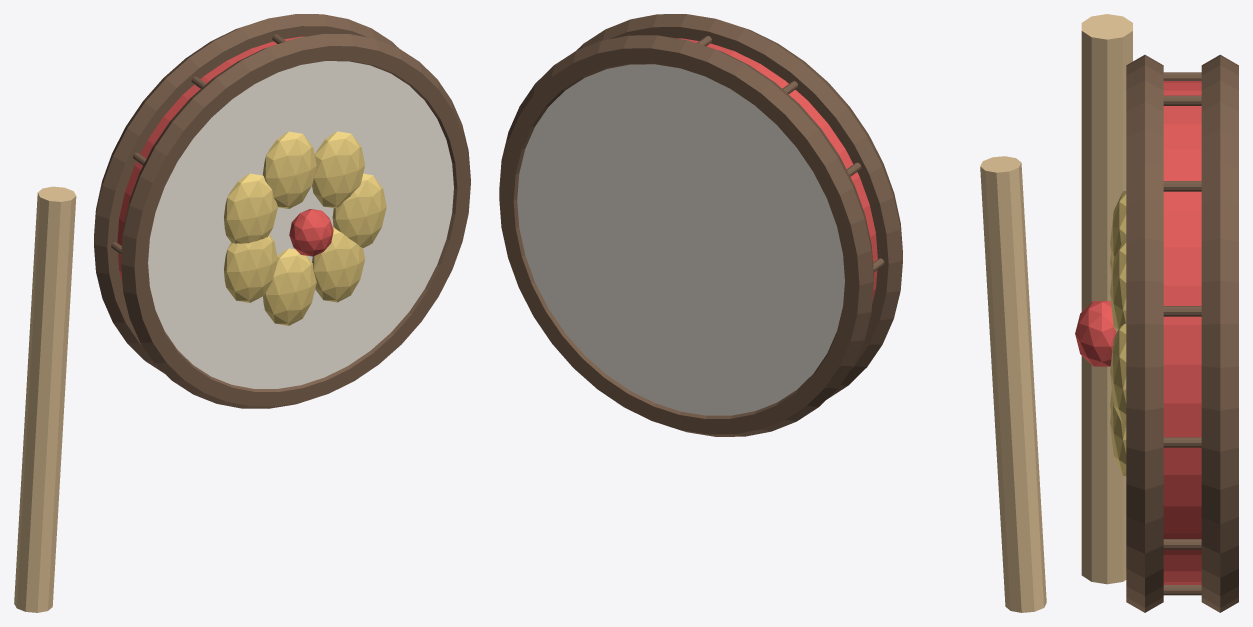
Rendered from local_eisa_paranku.glb.
3 views of the same model, side by side, from view 1: azimuth 30°, elevation 25°; view 2: azimuth 150°, elevation 25°; view 3: azimuth 270°, elevation 25° (orthographic). The views are drawn at different scales.
Visible parts, largest first — view 1: Eisa paranku handheld drum taut drum skin, Eisa paranku handheld drum leather head rim, Single-head paranku stick, Eisa paranku handheld drum leather head rim.001, Okinawan red paranku mon petal.002, Okinawan red paranku mon petal.001, Okinawan red paranku mon petal.003, Okinawan red paranku mon petal.005, Okinawan red paranku mon petal.004, Okinawan red paranku mon petal.006, Okinawan red paranku mon petal, Eisa paranku handheld drum hardwood shell (+1 smaller); view 2: Eisa paranku handheld drum taut drum skin.001, Eisa paranku handheld drum leather head rim.001, Single-head paranku stick, Eisa paranku handheld drum leather head rim, Eisa paranku handheld drum hardwood shell; view 3: Eisa paranku handheld drum leather head rim, Eisa paranku handheld drum leather head rim.001, Single-head paranku stick, Eisa paranku handheld drum hardwood shell, Okinawan red paranku mon center, Okinawan red paranku mon petal, Okinawan red paranku mon petal.001, Okinawan red paranku mon petal.006, Okinawan red paranku mon petal.002, Eisa paranku handheld drum wood grain, Eisa paranku handheld drum wood grain.001, Eisa paranku handheld drum wood grain.002 (+4 smaller).
Boxes of the visible parts, left/top/right/bottom form: Eisa paranku handheld drum taut drum skin: left=148, top=61, right=453, bottom=388; Eisa paranku handheld drum leather head rim: left=121, top=34, right=470, bottom=408; Single-head paranku stick: left=14, top=186, right=76, bottom=612; Eisa paranku handheld drum leather head rim.001: left=94, top=14, right=398, bottom=373; Okinawan red paranku mon petal.002: left=262, top=131, right=316, bottom=208; Okinawan red paranku mon petal.001: left=312, top=131, right=364, bottom=208; Okinawan red paranku mon petal.003: left=224, top=173, right=277, bottom=243; Okinawan red paranku mon petal.005: left=263, top=248, right=316, bottom=325; Okinawan red paranku mon petal.004: left=224, top=234, right=277, bottom=302; Okinawan red paranku mon petal.006: left=312, top=227, right=364, bottom=302; Okinawan red paranku mon petal: left=332, top=173, right=386, bottom=247; Eisa paranku handheld drum hardwood shell: left=117, top=36, right=304, bottom=283; Eisa paranku handheld drum taut drum skin.001: left=517, top=64, right=844, bottom=415; Eisa paranku handheld drum leather head rim.001: left=499, top=35, right=873, bottom=436; Single-head paranku stick: left=980, top=156, right=1046, bottom=612; Eisa paranku handheld drum leather head rim: left=576, top=14, right=902, bottom=399; Eisa paranku handheld drum hardwood shell: left=677, top=38, right=877, bottom=302; Eisa paranku handheld drum leather head rim: left=1126, top=55, right=1163, bottom=612; Eisa paranku handheld drum leather head rim.001: left=1201, top=54, right=1238, bottom=612; Single-head paranku stick: left=1081, top=14, right=1132, bottom=584; Eisa paranku handheld drum hardwood shell: left=1163, top=81, right=1201, bottom=584; Okinawan red paranku mon center: left=1075, top=301, right=1116, bottom=366; Okinawan red paranku mon petal: left=1110, top=323, right=1126, bottom=425; Okinawan red paranku mon petal.001: left=1110, top=239, right=1126, bottom=332; Okinawan red paranku mon petal.006: left=1110, top=398, right=1126, bottom=475; Okinawan red paranku mon petal.002: left=1110, top=191, right=1126, bottom=266; Eisa paranku handheld drum wood grain: left=1163, top=437, right=1201, bottom=447; Eisa paranku handheld drum wood grain.001: left=1163, top=306, right=1201, bottom=316; Eisa paranku handheld drum wood grain.002: left=1163, top=181, right=1201, bottom=191.
Size of the model in its own units: 1.95 by 1.95 by 0.4266.
